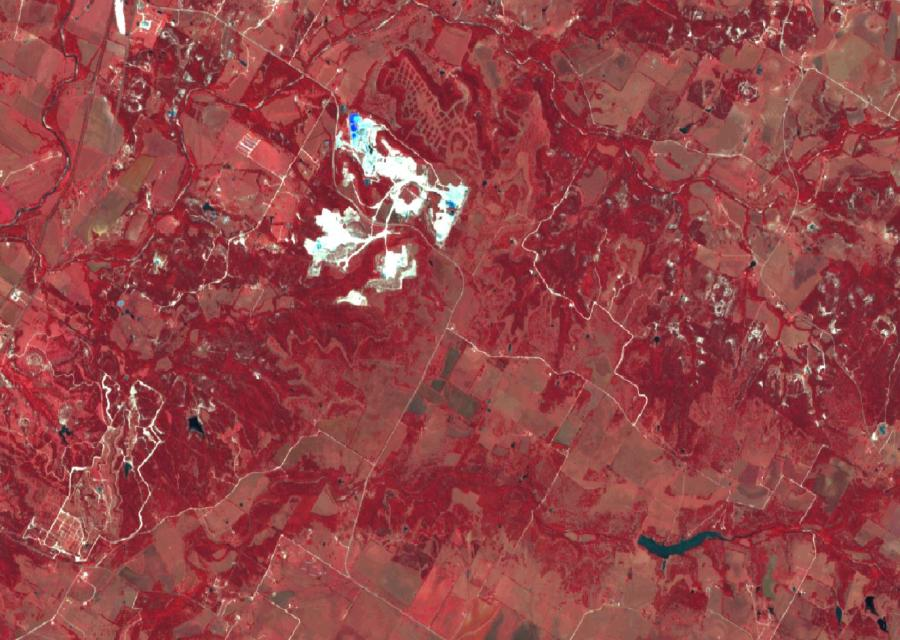Potential Lime Manufacturing Facility: (300, 112, 466, 310)
